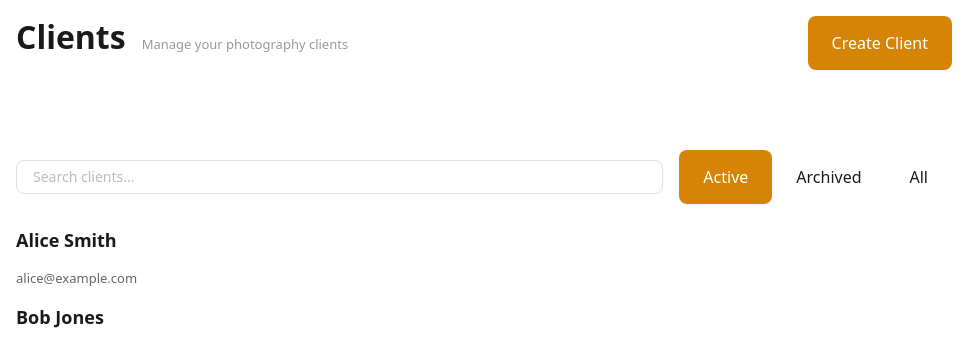
Clients › filters clients by search query
Expected: the heading "Alice Smith" is shown, [16,228,117,252]
In the field with placeholder "Search clients...": [340, 177] box [16,160,663,194], type "Alice"
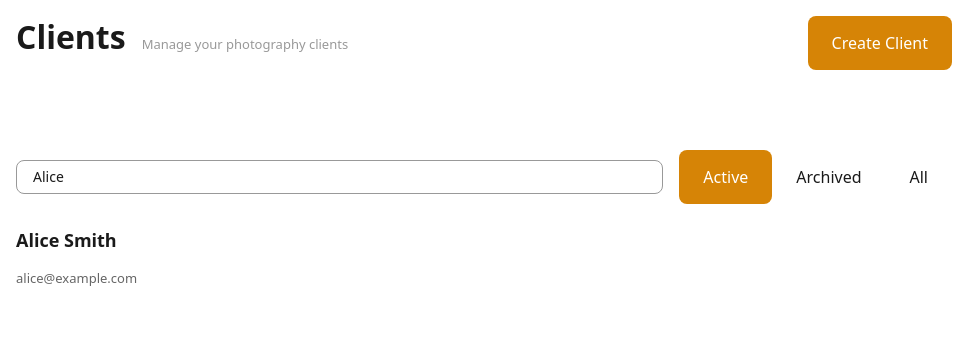
Expected: the heading "Alice Smith" is shown, [16,228,117,252]
Expected: the button "Bob Jones" is gone
